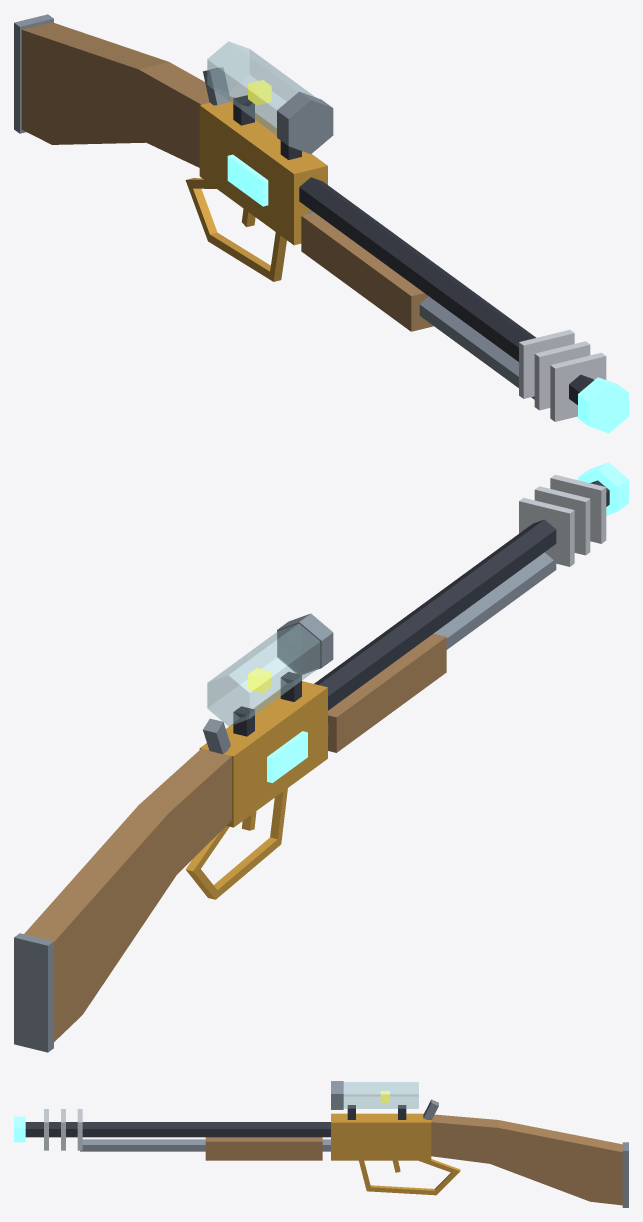
Rendered from Wpn_Blaster_Repeater.fbx.
3 renders of one model, top to bottom at view 1: azimuth 30°, elevation 25°; view 2: azimuth 150°, elevation 25°; view 3: azimuth 270°, elevation 25°, orthographic. The views are drawn at different scales.
Visible parts, largest first — view 1: Wpn_Blaster_Repeater_Body, Wpn_Blaster_Repeater_Scope_Jar, Wpn_Blaster_Repeater_Lever; view 2: Wpn_Blaster_Repeater_Body, Wpn_Blaster_Repeater_Scope_Jar, Wpn_Blaster_Repeater_Lever; view 3: Wpn_Blaster_Repeater_Body, Wpn_Blaster_Repeater_Scope_Jar, Wpn_Blaster_Repeater_Lever.
Part boxes in pixels (bbox=[...]): Wpn_Blaster_Repeater_Body: bbox=[14, 14, 628, 433]; Wpn_Blaster_Repeater_Scope_Jar: bbox=[207, 41, 333, 153]; Wpn_Blaster_Repeater_Lever: bbox=[185, 178, 286, 281]; Wpn_Blaster_Repeater_Body: bbox=[14, 462, 628, 1052]; Wpn_Blaster_Repeater_Scope_Jar: bbox=[207, 613, 333, 726]; Wpn_Blaster_Repeater_Lever: bbox=[185, 788, 287, 899]; Wpn_Blaster_Repeater_Body: bbox=[14, 1099, 628, 1207]; Wpn_Blaster_Repeater_Scope_Jar: bbox=[331, 1081, 418, 1109]; Wpn_Blaster_Repeater_Lever: bbox=[359, 1159, 460, 1195].
Bounding box in the file's own units: 0.0615 × 0.2649 × 1.21.
